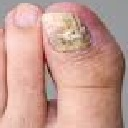Nail Fungal Infection: (50, 18, 101, 53)
